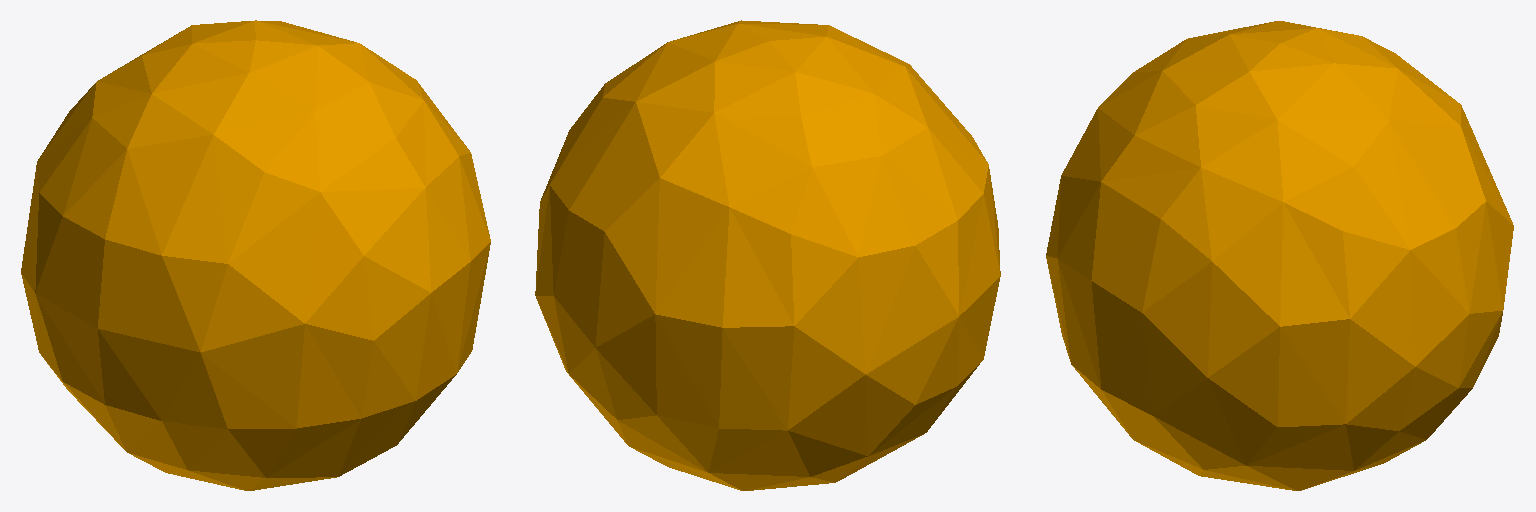
The robot description file, URDF, robot "donut":
<?xml version="1.0"?>
<robot name="donut">

  <link name="base_link">
    <visual>
      <geometry>
        <mesh filename="package://physical-experiment/downsampled4blender/Ftennis.stl" scale="10 10 10"/>
      </geometry>
    </visual>
    <collision>
      <geometry>
        <mesh filename="package://physical-experiment/downsampled4blender/Ftennis.stl" scale="10 10 10"/>
      </geometry>
    </collision>
  </link>

</robot>

--- Facts derived from the render (not from the file) ---
3 views of the same robot in one strip: view 1: azimuth 30°, elevation 25°; view 2: azimuth 150°, elevation 25°; view 3: azimuth 270°, elevation 25° (orthographic).
Robot: donut — 1 links, 0 joints (none); root link base_link; default pose: all joints at 0.
Visible links, largest first — view 1: base_link; view 2: base_link; view 3: base_link.
Boxes of the visible links, <box> form: base_link: <box>21,20,490,490</box>; base_link: <box>535,20,1000,490</box>; base_link: <box>1046,21,1513,490</box>.
Bounding box of the posed robot: 0.625 × 0.6241 × 0.6243 m (x, y, z).
Meshes: 1 distinct files referenced, 1 mesh visuals loaded (1 binary STL).